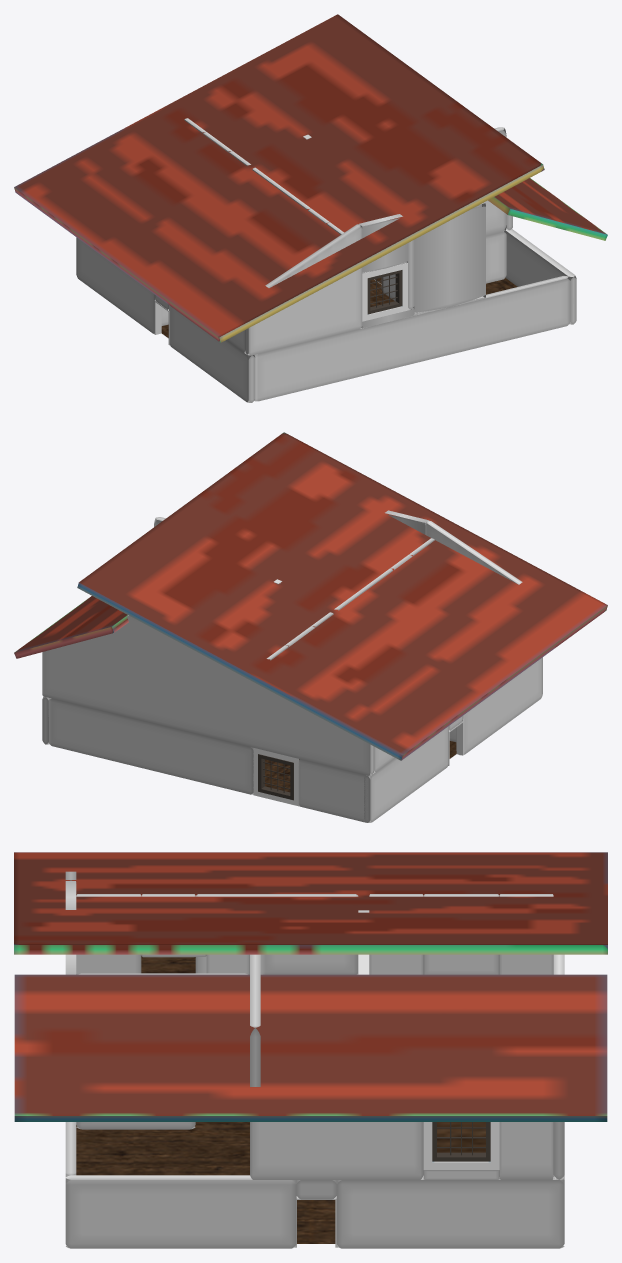
File: ZONE_01.fbx
The picture shows the model from 3 angles, top to bottom: view 1: azimuth 30°, elevation 25°; view 2: azimuth 150°, elevation 25°; view 3: azimuth 270°, elevation 25°; orthographic projection. The views are drawn at different scales.
Visible parts, largest first — view 1: Roof, Wall, cube_5, cube_45, cube_55, cube_36, cube_48; view 2: Roof, cube_4, Wall, cube_5, Floor; view 3: Roof, Wall, Floor, cube_35, cube_58, Floor_2d, cube_37, cube_53, cube_48, cube_36, cube_41, cube_42 (+5 smaller).
Boxes of the visible parts, box(x1,y1,x2,y2) form: Roof: box(14, 14, 607, 342); Wall: box(76, 228, 576, 402); cube_5: box(245, 224, 362, 355); cube_45: box(411, 202, 485, 315); cube_55: box(359, 214, 407, 273); cube_36: box(381, 240, 414, 309); cube_48: box(484, 127, 506, 235); Roof: box(14, 432, 607, 760); cube_4: box(42, 615, 373, 775); Wall: box(42, 657, 542, 822); cube_5: box(425, 520, 522, 584); Floor: box(265, 741, 456, 792); Roof: box(14, 852, 607, 1121); Wall: box(65, 1122, 564, 1248); Floor: box(76, 1122, 335, 1243); cube_35: box(250, 1122, 423, 1179); cube_58: box(499, 1122, 553, 1179); Floor_2d: box(141, 956, 485, 1152); cube_37: box(260, 954, 358, 974); cube_53: box(423, 954, 499, 974); cube_48: box(250, 954, 260, 1086); cube_36: box(76, 954, 141, 974); cube_41: box(369, 954, 423, 974); cube_42: box(499, 954, 553, 974).
Bounding box in the file's own units: 374 × 170 × 342.
5 materials, 5 textured.
